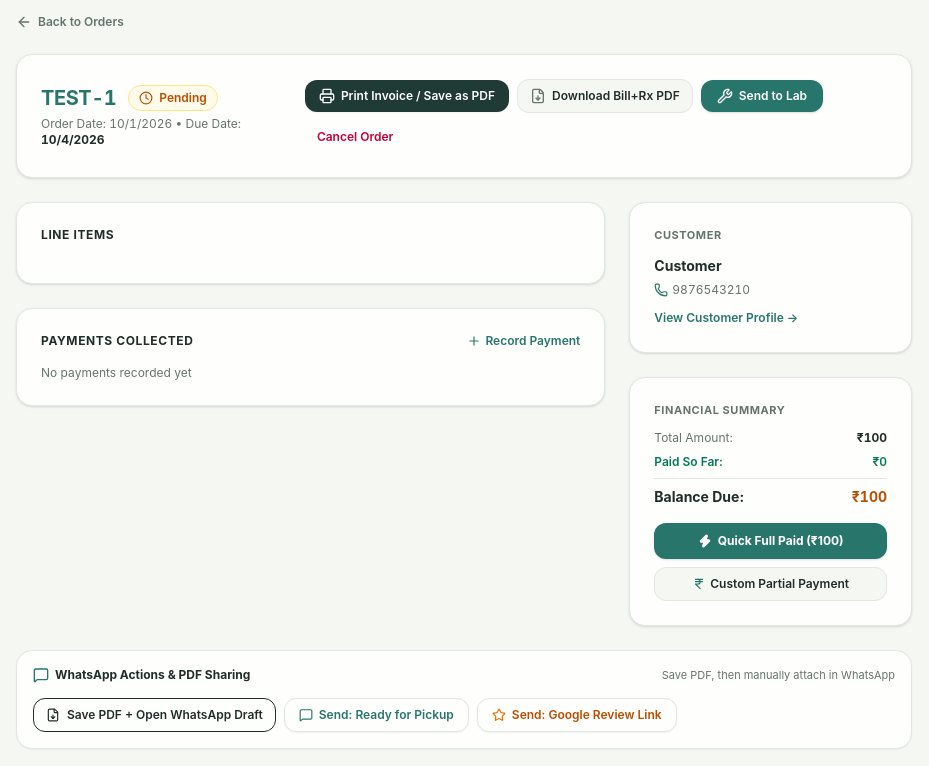
Test: matching PDF actions › failed linked prescription requests show retry and block saving
What coordinates should you click on to do the following:
click the button "Download Bill+Rx PDF"
I would click on:
 (605, 96)
Its box is [517, 79, 693, 113].
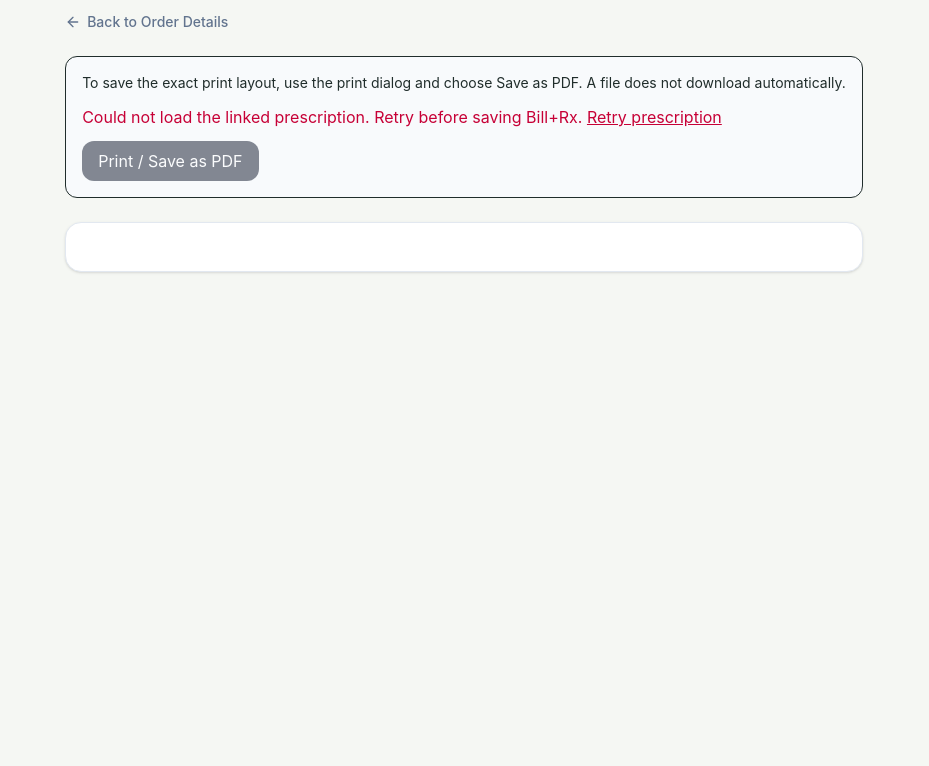
expect the text "Could not load the linked prescription" is shown: met, box [82, 107, 582, 127]
expect the button "Print / Save as PDF" is disabled: met, box [82, 141, 259, 181]
